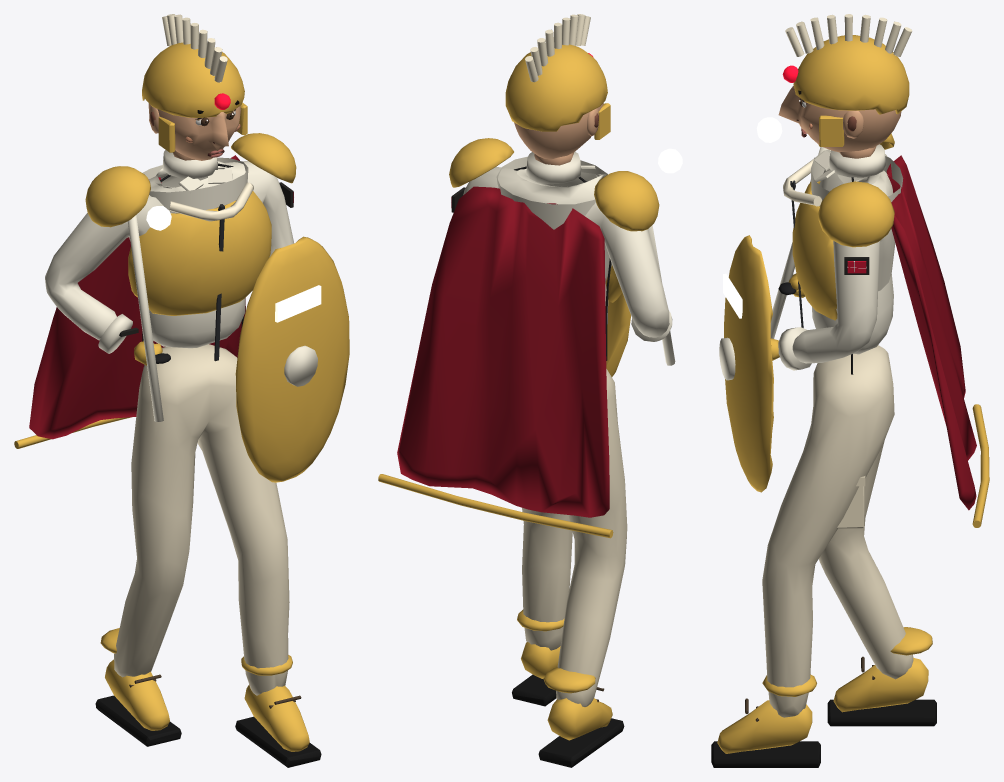
Rendered from enhed_guld.glb.
3 renders of one model, left to right at view 1: azimuth 30°, elevation 25°; view 2: azimuth 150°, elevation 25°; view 3: azimuth 270°, elevation 25°, orthographic. The views are drawn at different scales.
Visible parts, largest first — view 1: krop_net; view 2: krop_net; view 3: krop_net.
Boxes of the visible parts, bbox=[...] form: krop_net: bbox=[14, 14, 349, 767]; krop_net: bbox=[378, 14, 682, 767]; krop_net: bbox=[711, 14, 989, 767].
Size of the model in its own units: 0.8338 by 2.28 by 0.7944.
